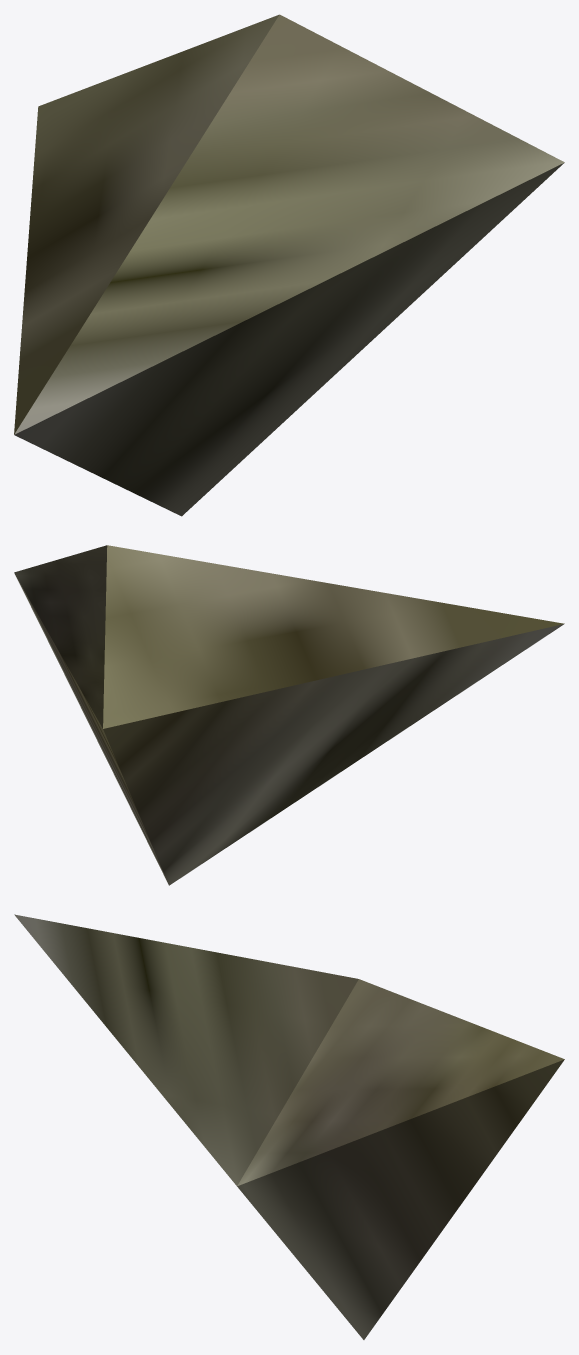
3 renders of one model, top to bottom at view 1: azimuth 30°, elevation 25°; view 2: azimuth 150°, elevation 25°; view 3: azimuth 270°, elevation 25°, orthographic. The views are drawn at different scales.
Size of the model in its own units: 0.0314 by 0.0211 by 0.0263.
1 material, 1 textured.
